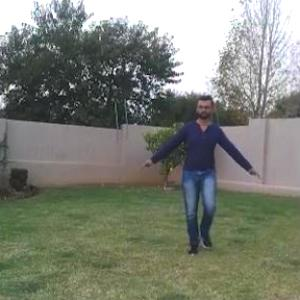land: (133, 82, 271, 264)
